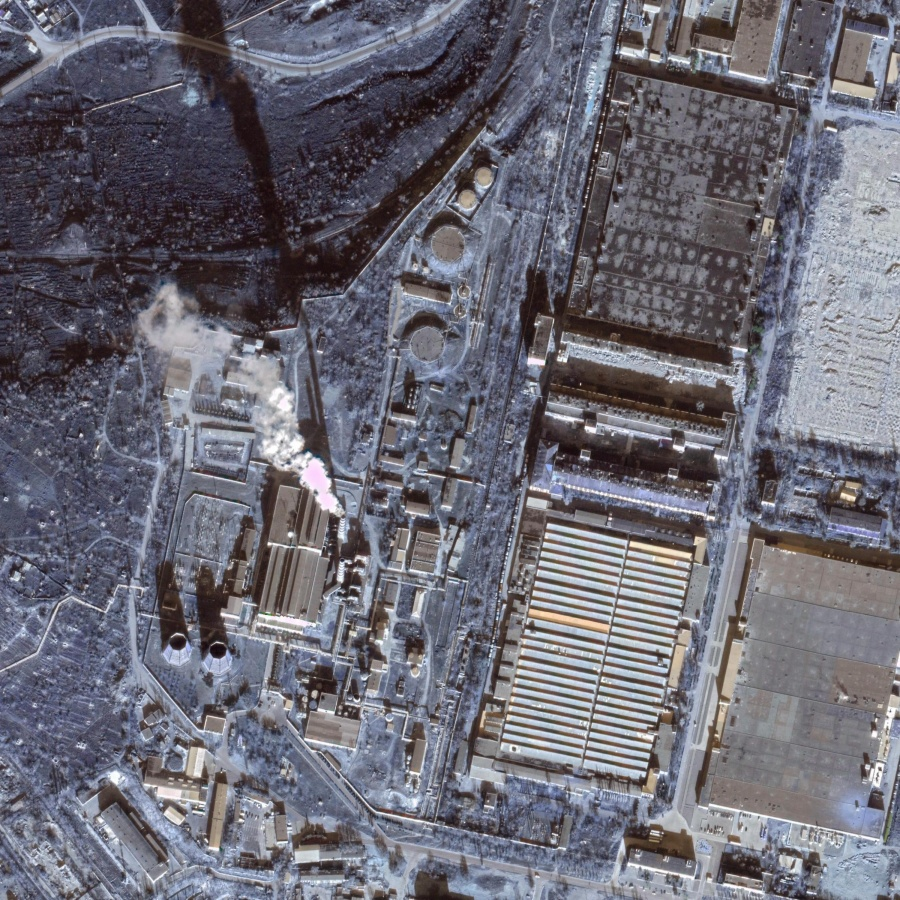PowerPlant: (149, 426, 372, 687)
